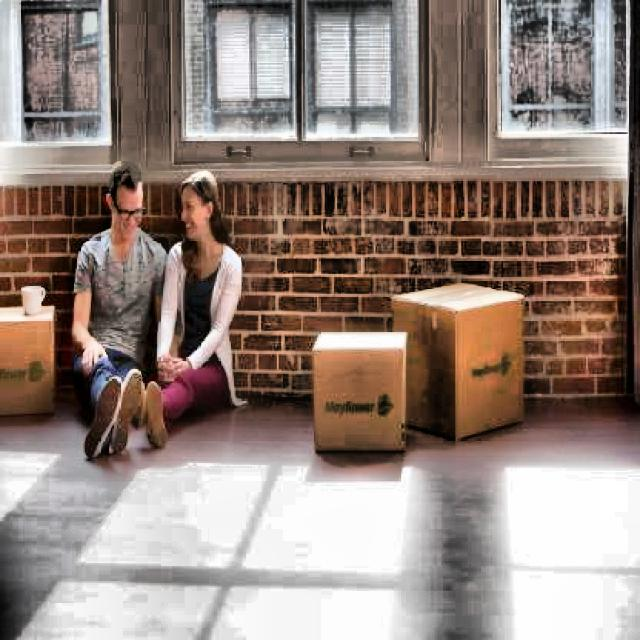Cardbox: (389, 260, 538, 442), (289, 326, 411, 462)
